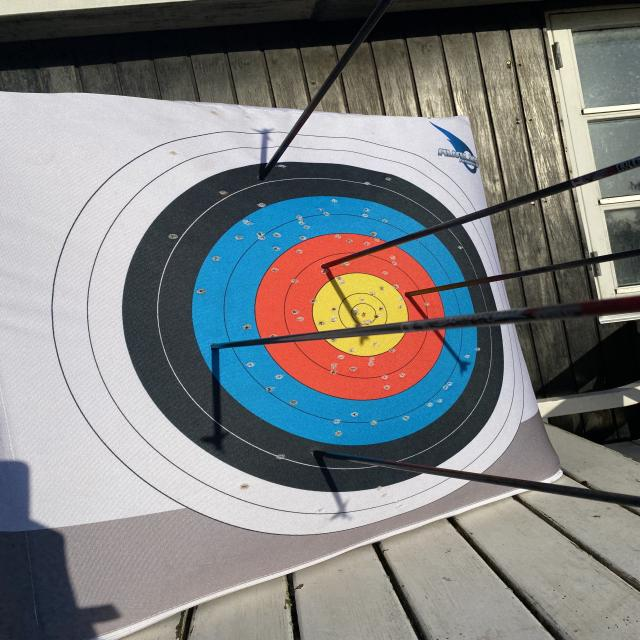Arrow_Black: (305, 438, 354, 476), (246, 159, 289, 196)
Arrow_Blue: (190, 331, 242, 364)
Arrow_Red: (308, 250, 346, 283), (397, 280, 433, 310)
